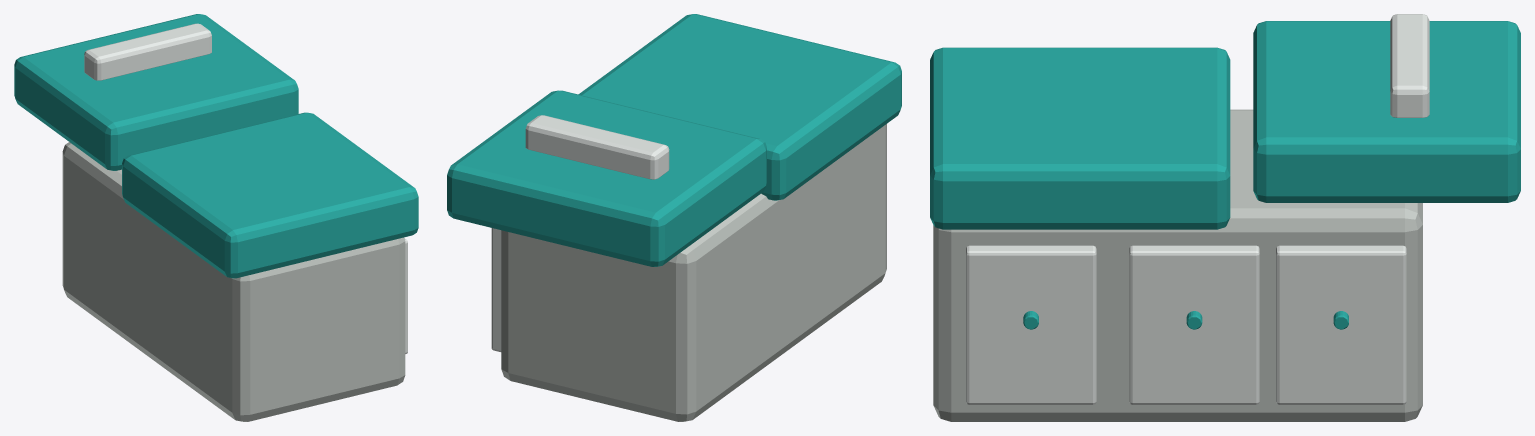
The model's file is MH10_Examination_Table.glb.
3 views of the same model, side by side, from view 1: azimuth 30°, elevation 25°; view 2: azimuth 150°, elevation 25°; view 3: azimuth 270°, elevation 25° (orthographic). The views are drawn at different scales.
Parts seen in each view (by area): view 1: Table_Cabinet, Seat_Cushion, Back_Cushion, Paper_Roll; view 2: Table_Cabinet, Back_Cushion, Seat_Cushion, Paper_Roll, Cabinet_Door_0.5; view 3: Seat_Cushion, Back_Cushion, Table_Cabinet, Cabinet_Door_-0.45, Cabinet_Door_0.05, Cabinet_Door_0.5, Paper_Roll.
Boxes of the visible parts, x1,y1,x2,y2 form: Table_Cabinet: (62,142,405,421); Seat_Cushion: (122,112,418,278); Back_Cushion: (14,14,298,170); Paper_Roll: (84,23,211,80); Table_Cabinet: (501,124,886,421); Back_Cushion: (447,90,766,266); Seat_Cushion: (578,14,901,200); Paper_Roll: (525,115,669,179); Cabinet_Door_0.5: (491,228,501,351); Seat_Cushion: (930,47,1230,229); Back_Cushion: (1253,21,1520,202); Table_Cabinet: (933,109,1422,421); Cabinet_Door_-0.45: (966,245,1096,404); Cabinet_Door_0.05: (1129,245,1259,404); Cabinet_Door_0.5: (1276,245,1406,404); Paper_Roll: (1390,14,1429,117).
Size of the model in its own units: 0.96 by 1.09 by 1.81.
